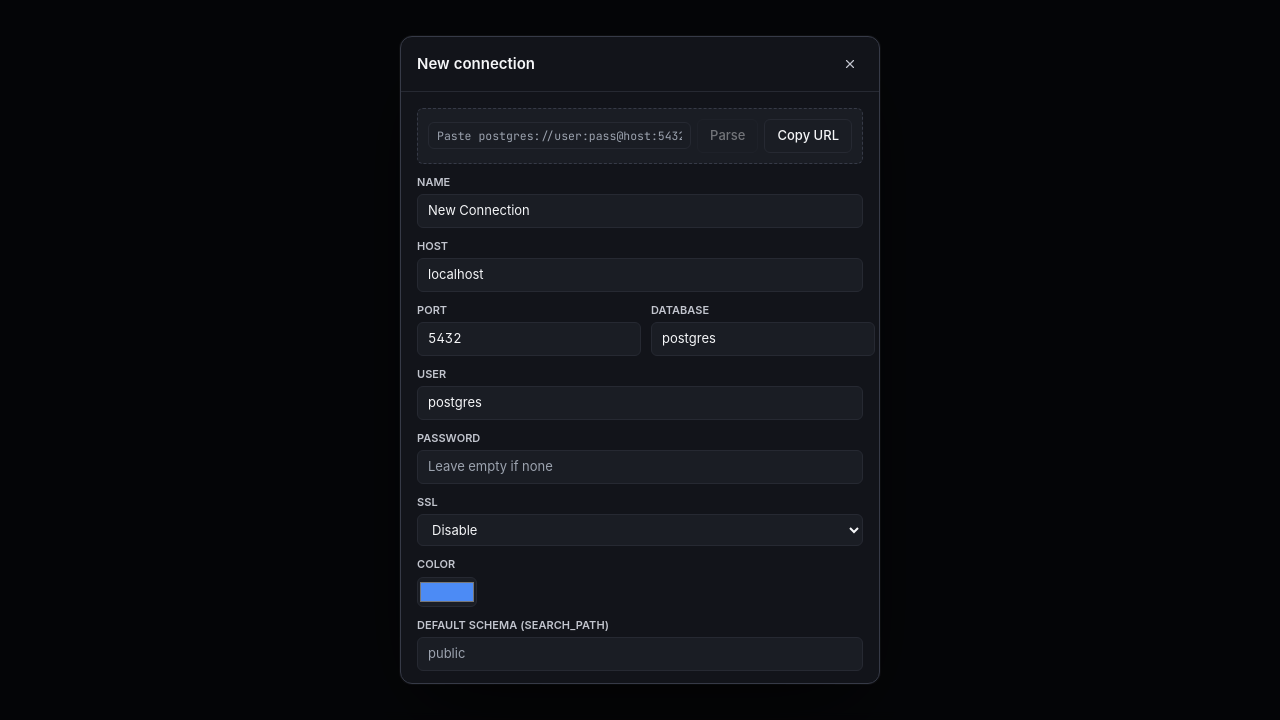
Test case: <ConnectionForm> URL parser › parses host/port/db/user/password from a postgres:// URL
Type "postgresql://alice:secret123@db.example.com:6543/orders" into the field with placeholder "Paste postgres://user:pass@host:5432/db?sslmode=require" at (560,136), box [428, 122, 691, 149]
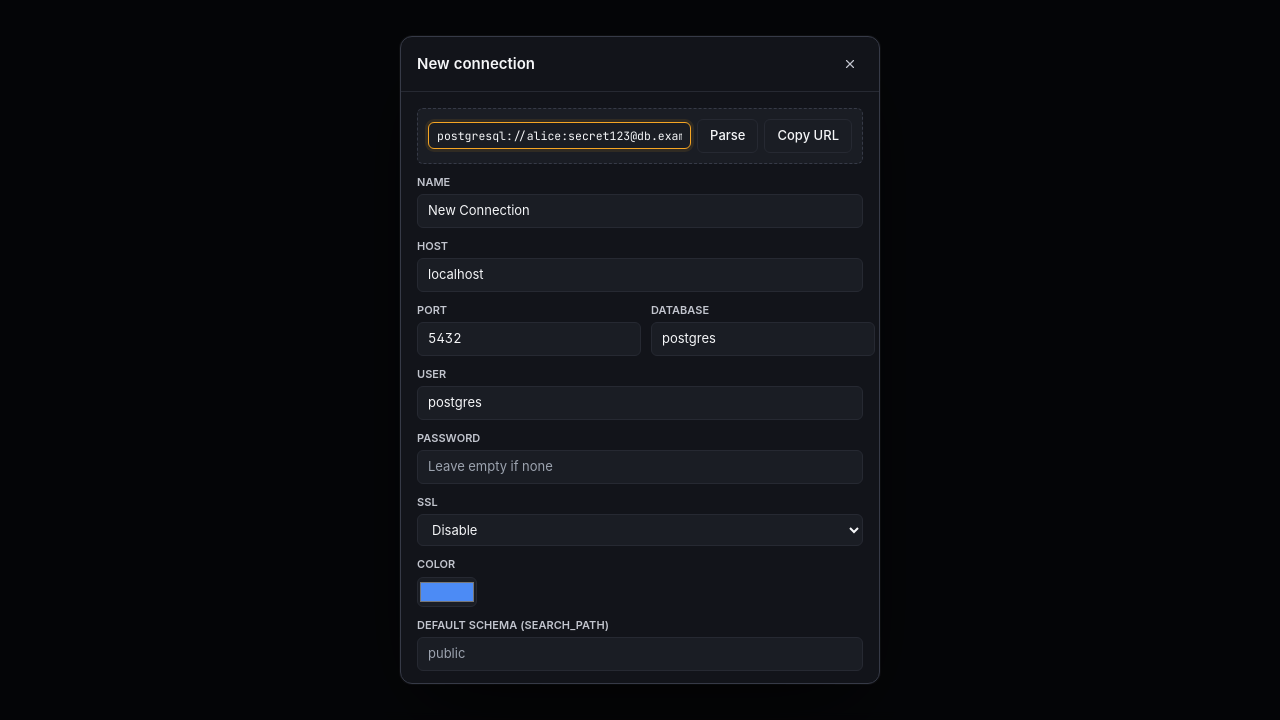
Click the button "Parse" at (728,136), box [697, 119, 758, 152]
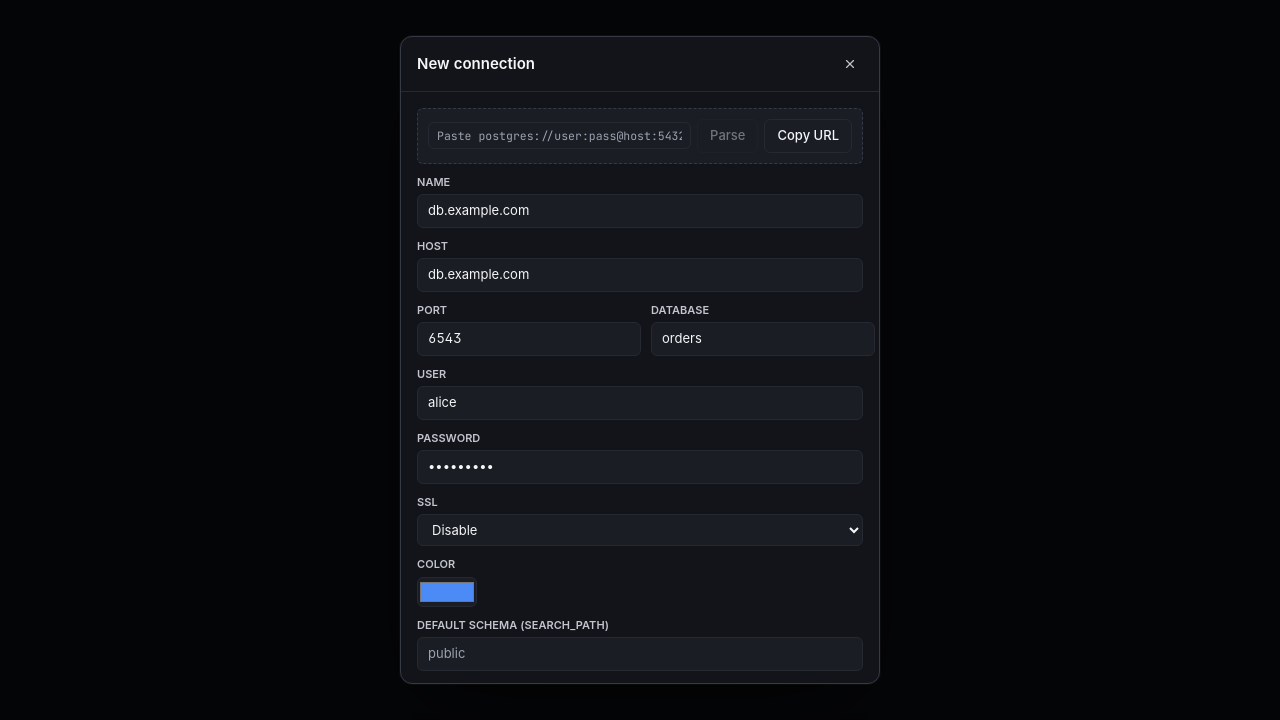
Now the field labelled "Host" holds "db.example.com", box [417, 258, 863, 292]
Now the field labelled "Database" holds "orders", box [651, 322, 875, 356]
Now the field labelled "User" holds "alice", box [417, 386, 863, 420]
